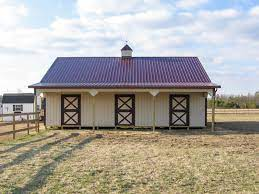Tin-shade House: (33, 47, 222, 131)
